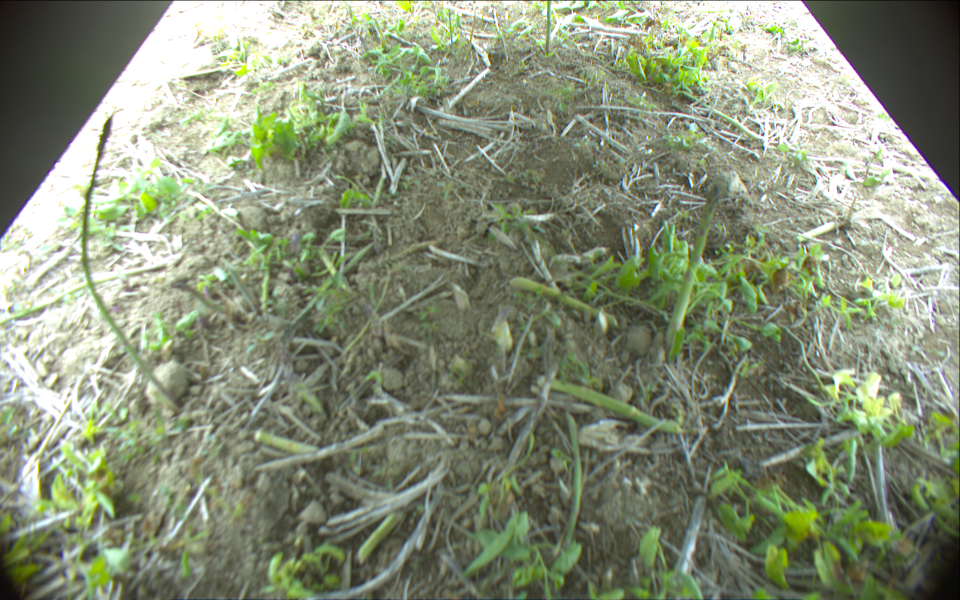aspa: (81, 114, 177, 413), (534, 375, 686, 435), (667, 186, 719, 353), (508, 277, 618, 330), (562, 411, 586, 551), (351, 509, 408, 560), (254, 429, 319, 455), (463, 12, 478, 62), (375, 18, 391, 54), (545, 1, 552, 51), (449, 7, 454, 50)
